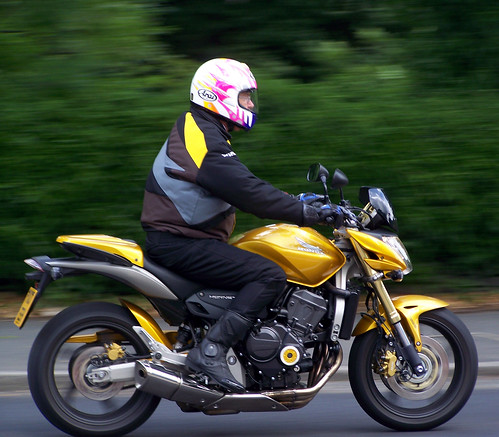helmet: (187, 46, 259, 128)
